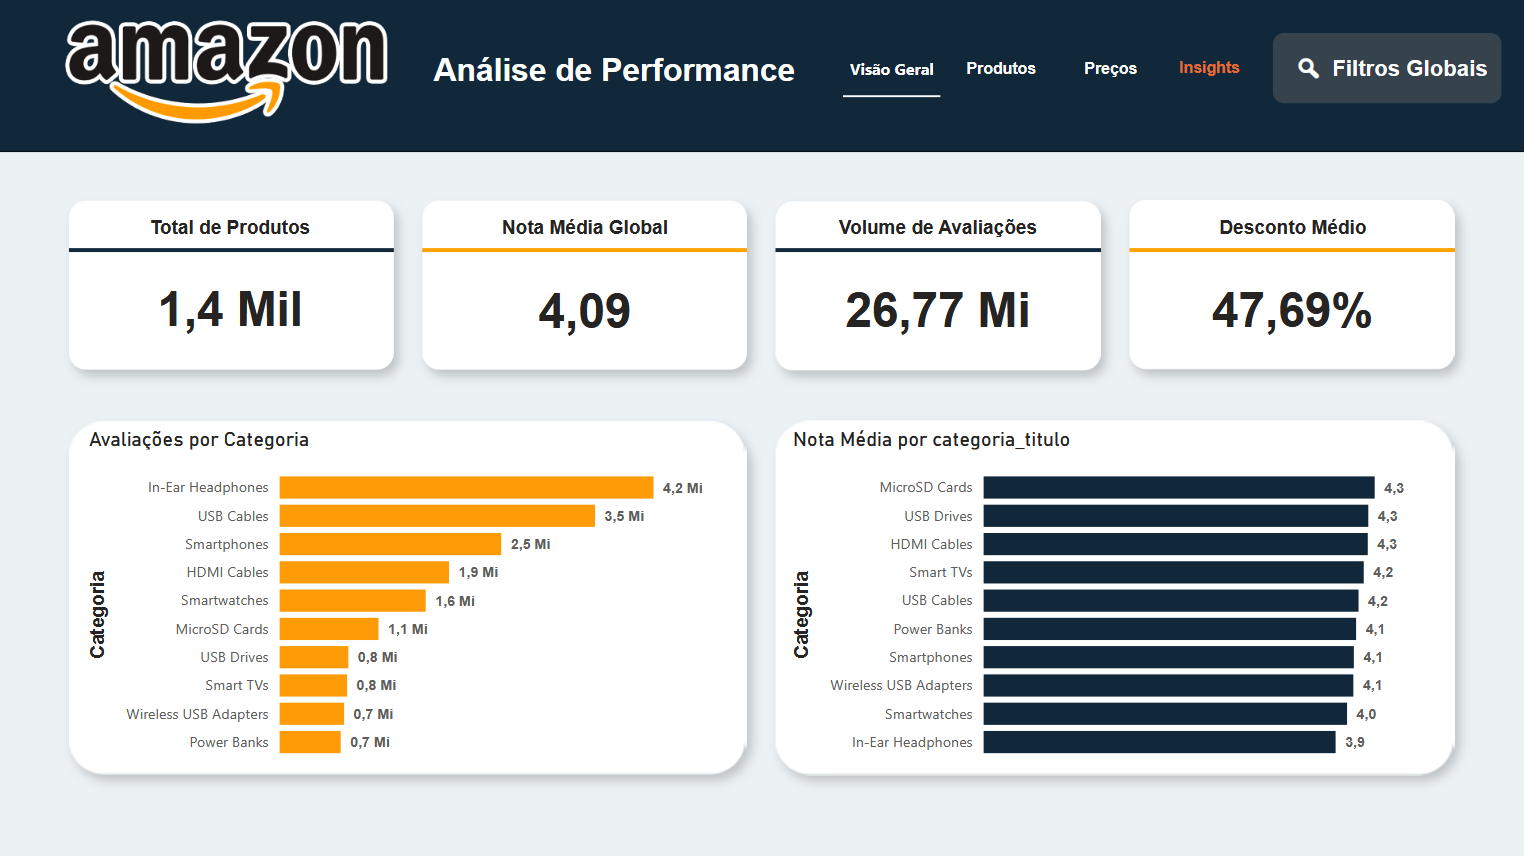

The dashboard page shown, as its layout file describes it:
{"tool":"powerbi","page":{"name":"Visão Geral","canvas":[1280,720],"ordinal":0},"visuals":[{"type":"cardVisual","fields":{"Data":["vw_produtos_limpo.Total Produtos"]},"box":[56.6,207.4,274.7,104.1],"z":0},{"type":"cardVisual","fields":{"Data":["vw_produtos_limpo.Nota Média"]},"box":[355.5,211.9,272.9,100.5],"z":1000},{"type":"cardVisual","fields":{"Data":["vw_produtos_limpo.Total Avaliações"]},"box":[651.8,211.9,272.9,99.7],"z":2000},{"type":"cardVisual","fields":{"Data":["vw_produtos_limpo.Desconto Médio"]},"box":[949.8,211.9,272,99.7],"z":3000},{"type":"barChart","title":"Avaliações por Categoria","fields":{"Category":["dCategorias.categoria_titulo"],"Y":["vw_produtos_limpo.Total Avaliações"]},"box":[70,359.9,543.7,288.9],"z":4000},{"type":"barChart","fields":{"Category":["dCategorias.categoria_titulo"],"Y":["vw_produtos_limpo.Nota Média"]},"box":[661.4,359.9,549.5,288.9],"z":5000},{"type":"textbox","box":[949.8,177.8,272,29.6],"z":6000},{"type":"textbox","box":[651.8,177.8,272,29.6],"z":7000},{"type":"textbox","box":[355.5,177.8,272,29.6],"z":8000},{"type":"textbox","box":[57.5,177.8,272,29.6],"z":9000},{"type":"textbox","title":"Filtro Fechado","box":[1069.9,28.2,191.6,59.3],"z":10000},{"type":"actionButton","box":[1070.1,28.5,191.7,59.3],"z":11000},{"type":"pageNavigator","box":[708.4,33.1,268.1,50.2],"z":12000},{"type":"textbox","box":[355.5,39.5,321.4,47.6],"z":13000},{"type":"textbox","box":[976.5,26.2,79.9,61.6],"z":15000},{"type":"actionButton","box":[966.3,37.6,100.4,39.9],"z":15500}]}

Visuals, with their boxes in screenshot pixels (x1, y1, x2, y2), scaled from the page's 1280x720 canvas onto the 1524x856 screenshot:
cardVisual - vw_produtos_limpo.Total Produtos: locate(67, 247, 394, 370)
cardVisual - vw_produtos_limpo.Nota Média: locate(423, 252, 748, 371)
cardVisual - vw_produtos_limpo.Total Avaliações: locate(776, 252, 1101, 370)
cardVisual - vw_produtos_limpo.Desconto Médio: locate(1131, 252, 1455, 370)
"Avaliações por Categoria" barChart: locate(83, 428, 731, 771)
barChart - dCategorias.categoria_titulo x vw_produtos_limpo.Nota Média: locate(787, 428, 1442, 771)
textbox: locate(1131, 211, 1455, 247)
textbox: locate(776, 211, 1100, 247)
textbox: locate(423, 211, 747, 247)
textbox: locate(68, 211, 392, 247)
"Filtro Fechado" textbox: locate(1274, 34, 1502, 104)
actionButton: locate(1274, 34, 1502, 104)
pageNavigator: locate(843, 39, 1163, 99)
textbox: locate(423, 47, 806, 104)
textbox: locate(1163, 31, 1258, 104)
actionButton: locate(1151, 45, 1270, 92)
